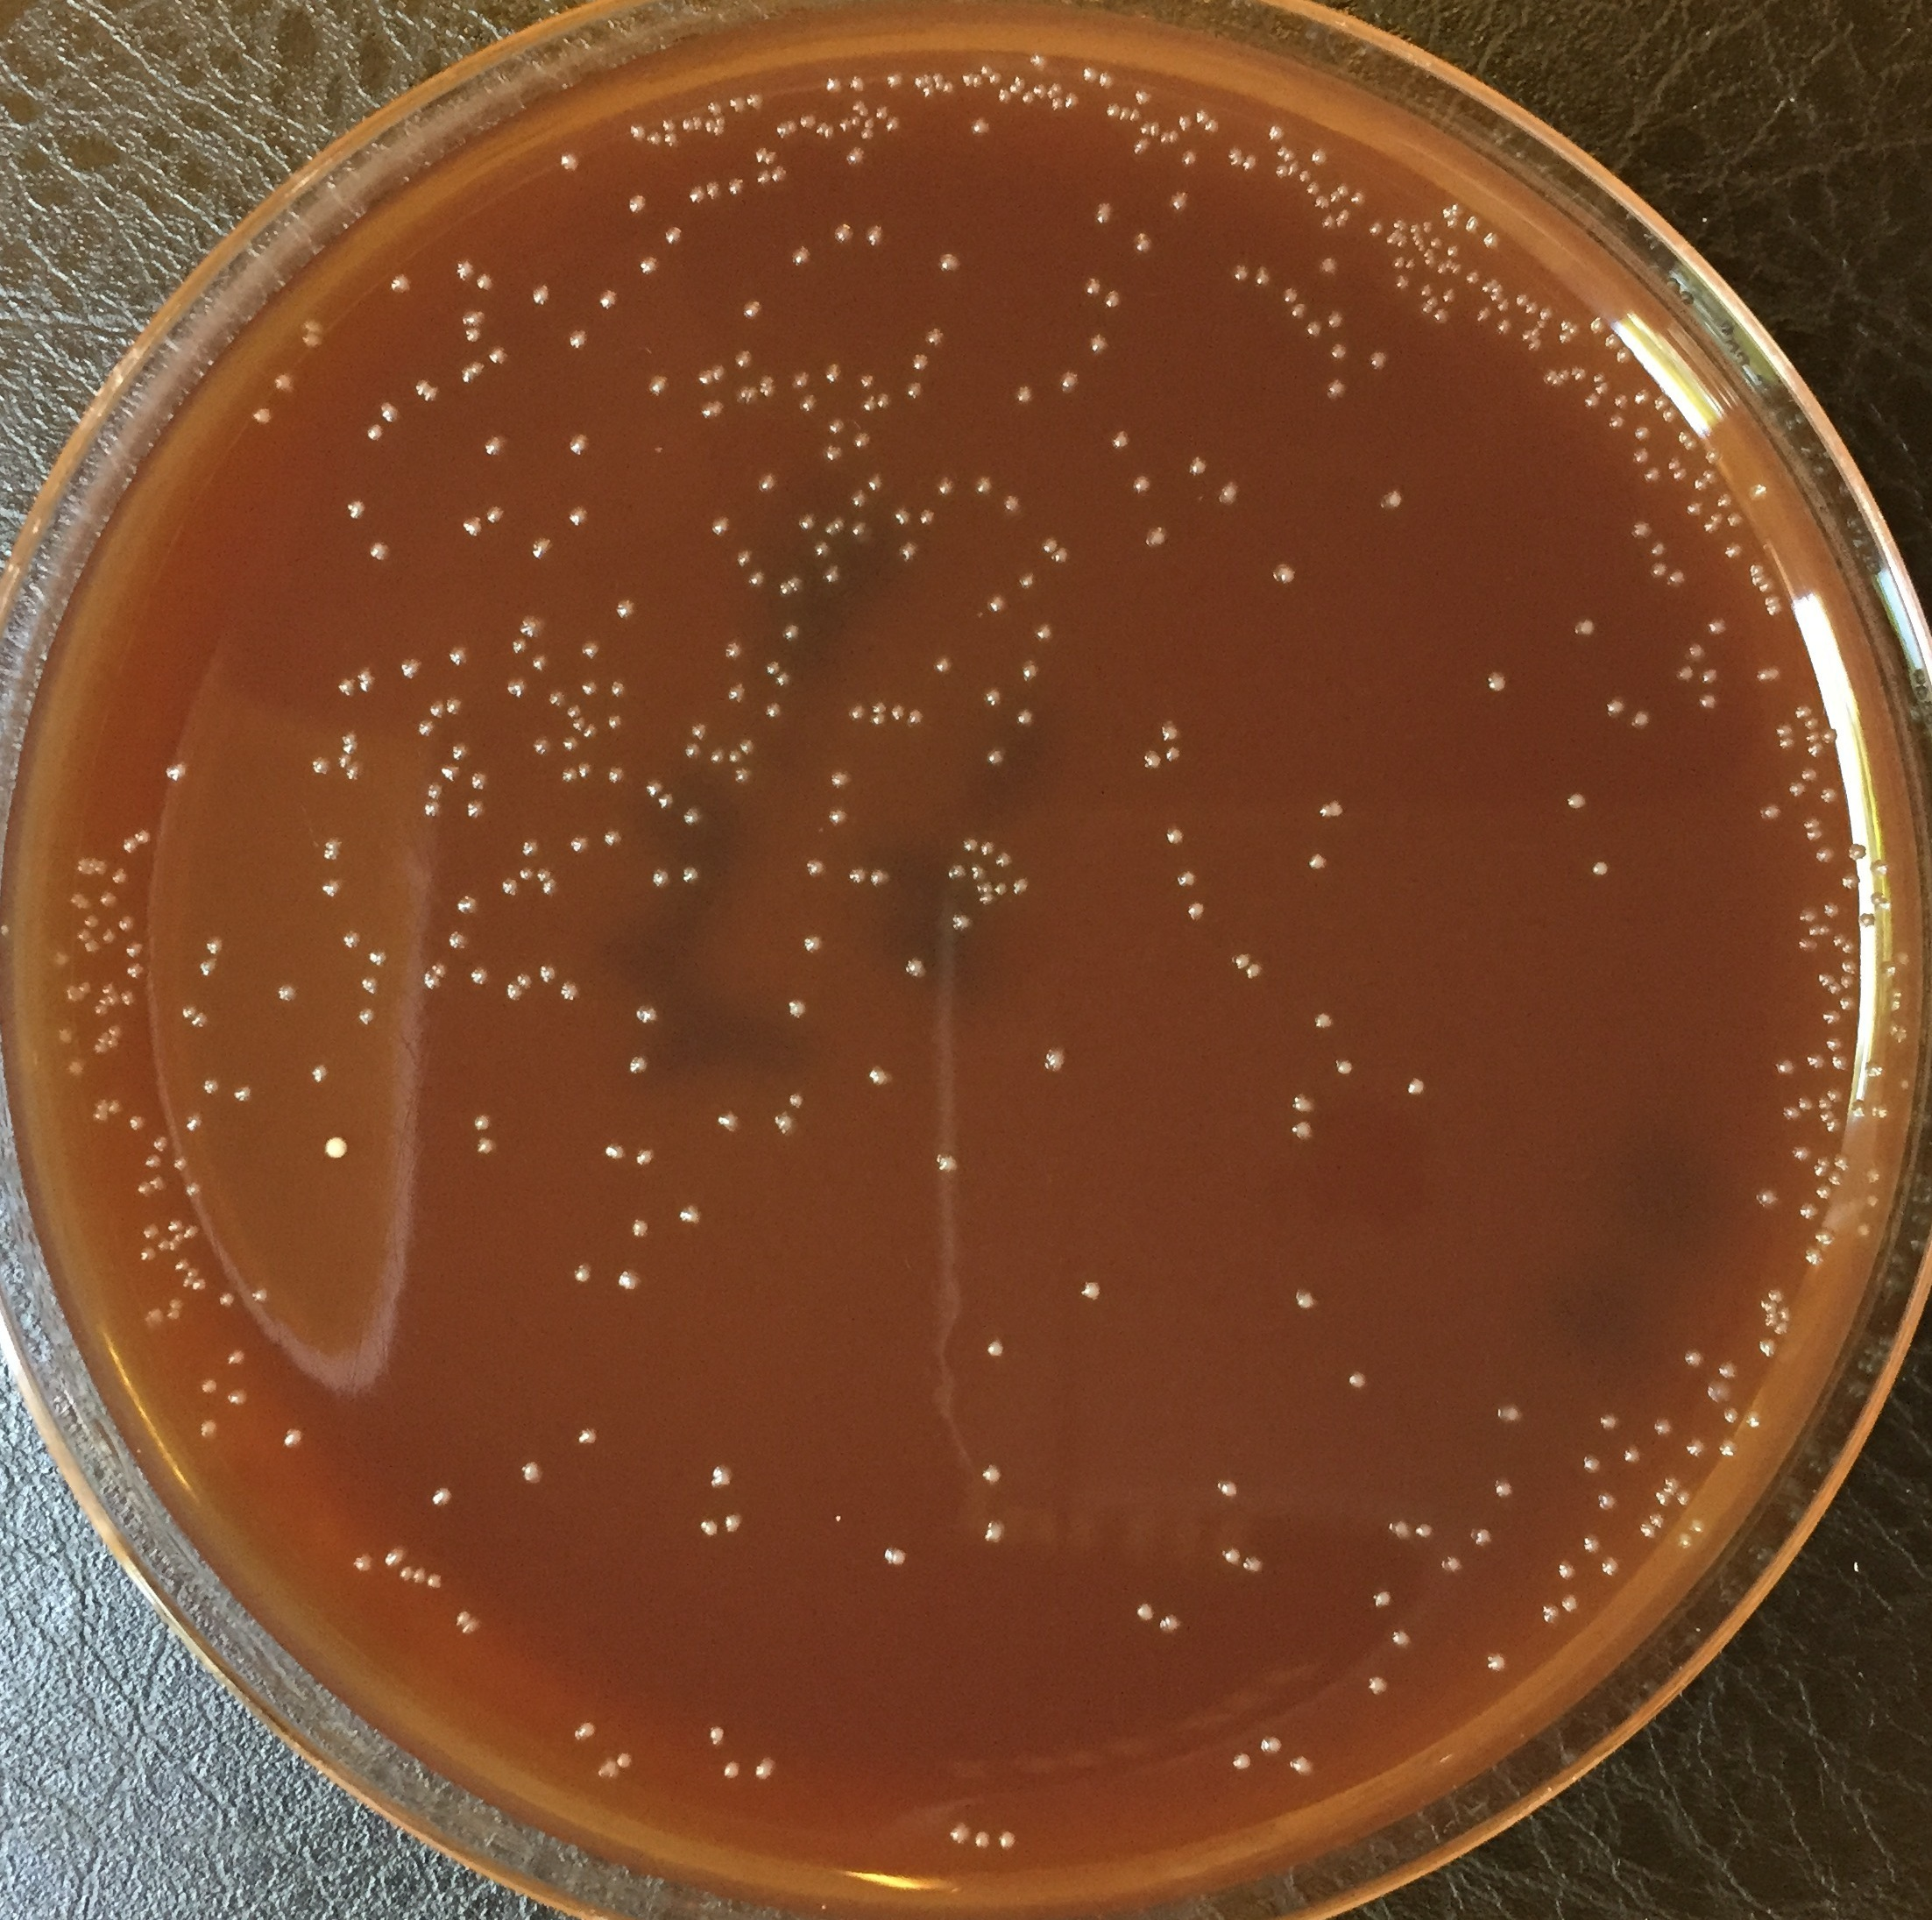sp23: (1883, 1016, 1914, 1053), (1703, 1375, 1739, 1405), (519, 612, 550, 644), (1287, 1751, 1320, 1781), (867, 1062, 898, 1092), (1039, 1044, 1069, 1076), (900, 955, 930, 985), (183, 1113, 214, 1141), (322, 1132, 350, 1164), (160, 756, 188, 788), (633, 1002, 663, 1030), (517, 1459, 547, 1487), (1384, 1517, 1413, 1545), (459, 359, 487, 389), (715, 1106, 744, 1136), (450, 891, 482, 918), (1751, 1183, 1783, 1210), (772, 1106, 798, 1138), (946, 909, 977, 935), (1217, 478, 1243, 510), (649, 865, 677, 893), (1579, 1451, 1607, 1479), (482, 433, 510, 461), (443, 928, 473, 955), (429, 1484, 459, 1510), (1213, 1477, 1243, 1503), (271, 371, 301, 397), (529, 536, 559, 563), (614, 1269, 643, 1296), (705, 1463, 735, 1489), (983, 1516, 1009, 1545), (932, 1148, 962, 1175), (1078, 1278, 1108, 1305), (1290, 1287, 1320, 1313), (505, 673, 531, 703), (350, 1553, 378, 1579), (751, 1755, 779, 1781), (413, 376, 441, 403), (1290, 1118, 1318, 1145), (564, 433, 592, 459), (861, 223, 890, 250), (1127, 230, 1155, 257), (1185, 454, 1213, 480), (1378, 489, 1406, 515), (276, 1426, 306, 1451), (1155, 1611, 1185, 1635), (1494, 1401, 1524, 1426), (932, 250, 962, 274), (1009, 385, 1039, 410), (366, 944, 392, 971), (276, 983, 302, 1009), (626, 1053, 652, 1080), (1484, 1649, 1510, 1676), (1693, 689, 1719, 716), (378, 399, 404, 425), (1013, 705, 1039, 731), (577, 636, 603, 663), (357, 1004, 381, 1032), (466, 964, 494, 988), (601, 763, 629, 788), (592, 1756, 621, 1781), (995, 1829, 1023, 1853), (626, 1217, 654, 1241), (868, 867, 897, 891), (1183, 898, 1208, 927), (846, 485, 870, 513), (1269, 561, 1297, 585), (501, 872, 524, 902), (1255, 1734, 1285, 1756), (1369, 1589, 1399, 1612), (1811, 1225, 1841, 1248), (566, 503, 589, 533), (1141, 527, 1173, 549), (339, 927, 364, 953), (308, 1060, 332, 1087), (464, 798, 490, 823), (554, 979, 580, 1004), (529, 733, 554, 760), (730, 763, 754, 789), (1619, 1440, 1644, 1466), (1572, 615, 1598, 640), (482, 503, 506, 529), (979, 1459, 1004, 1486), (784, 995, 809, 1022), (1157, 719, 1181, 745), (1018, 659, 1044, 684), (830, 767, 856, 791), (708, 515, 735, 540), (904, 380, 930, 404), (1468, 1524, 1496, 1547), (1540, 1602, 1563, 1630), (1740, 1408, 1769, 1431), (1166, 192, 1194, 215), (389, 273, 417, 295), (983, 593, 1011, 615), (1057, 369, 1085, 392), (1626, 710, 1656, 731), (823, 807, 853, 828), (439, 761, 464, 786), (512, 971, 536, 995), (948, 1822, 972, 1846), (1681, 1347, 1705, 1371), (1484, 670, 1508, 695), (1702, 614, 1726, 638), (557, 149, 582, 174), (570, 1259, 594, 1284), (723, 1512, 747, 1537), (1306, 849, 1331, 874), (740, 297, 765, 322), (1086, 331, 1111, 355), (614, 598, 638, 622), (306, 753, 332, 775), (599, 826, 626, 849), (503, 981, 529, 1004), (640, 777, 666, 800), (197, 1417, 223, 1440), (1594, 1489, 1621, 1512), (1132, 1604, 1158, 1626), (1681, 1436, 1707, 1459), (1716, 1436, 1742, 1459), (1802, 1245, 1828, 1268), (1027, 51, 1053, 74), (636, 255, 663, 278), (677, 1203, 703, 1225), (696, 1517, 723, 1540), (800, 932, 823, 958), (1162, 823, 1188, 846), (1173, 867, 1199, 890), (726, 682, 749, 709), (984, 745, 1011, 768), (795, 392, 821, 415), (566, 832, 594, 853), (679, 862, 707, 883), (457, 1616, 485, 1637), (1387, 1628, 1415, 1649), (396, 658, 424, 679), (1818, 1009, 1848, 1029), (1774, 1057, 1797, 1081), (343, 760, 367, 782), (415, 717, 439, 740), (468, 770, 492, 793), (225, 1385, 250, 1408), (381, 1545, 406, 1568), (571, 1720, 596, 1742), (1366, 1674, 1391, 1697), (1554, 1558, 1577, 1582), (1598, 1556, 1623, 1579), (1218, 1545, 1243, 1568), (1797, 1199, 1821, 1222), (1797, 905, 1821, 928), (452, 258, 476, 281), (592, 288, 617, 311), (564, 329, 589, 352), (345, 499, 367, 524), (473, 1134, 498, 1157), (805, 855, 828, 879), (967, 860, 991, 883), (1009, 874, 1034, 897), (821, 561, 844, 585), (645, 375, 670, 397), (1081, 274, 1104, 299), (1108, 429, 1130, 454), (510, 635, 534, 658), (1846, 1097, 1867, 1124), (123, 960, 149, 981), (230, 1085, 257, 1106), (65, 1058, 91, 1080), (686, 719, 712, 740), (1491, 1479, 1517, 1500), (1558, 1593, 1584, 1614), (1839, 870, 1865, 891), (1605, 696, 1626, 723), (1289, 1092, 1315, 1113), (779, 621, 805, 642), (1014, 570, 1041, 591), (1716, 1359, 1744, 1378), (461, 308, 489, 327), (425, 781, 448, 804), (654, 789, 677, 812), (721, 1758, 744, 1781), (1589, 858, 1612, 881), (1846, 840, 1869, 863), (1682, 640, 1705, 663), (1702, 447, 1725, 469), (1747, 482, 1770, 505), (1366, 350, 1389, 373), (823, 74, 846, 97), (844, 146, 867, 169), (1141, 749, 1164, 772), (932, 652, 955, 675), (202, 935, 223, 960), (120, 835, 141, 860), (118, 988, 139, 1013), (450, 738, 471, 763), (538, 960, 559, 985), (707, 1723, 728, 1748), (970, 1830, 995, 1851), (1580, 1535, 1605, 1556), (1756, 1336, 1781, 1357), (1788, 1143, 1812, 1164), (1779, 1102, 1804, 1124), (1756, 802, 1781, 823), (1818, 726, 1842, 747), (1665, 566, 1689, 587), (1318, 257, 1343, 278), (967, 118, 991, 139), (529, 283, 550, 308), (487, 345, 512, 366), (461, 515, 482, 540), (601, 1139, 626, 1160), (631, 1146, 656, 1167), (1403, 1076, 1427, 1097), (1034, 622, 1058, 644), (1329, 798, 1350, 823), (933, 476, 958, 498), (897, 540, 921, 561), (701, 397, 726, 418), (756, 375, 777, 399), (735, 385, 759, 406), (447, 645, 471, 666), (531, 651, 552, 675), (301, 332, 327, 352), (77, 856, 104, 876), (1438, 1553, 1464, 1572), (1238, 1554, 1264, 1574), (1563, 791, 1589, 811), (1753, 665, 1779, 684), (445, 693, 464, 719), (320, 877, 341, 900), (116, 913, 139, 934), (109, 867, 132, 888), (97, 888, 120, 909), (188, 1009, 211, 1030), (541, 872, 563, 895), (603, 712, 626, 733), (680, 737, 701, 760), (225, 1347, 248, 1368), (197, 1377, 220, 1398), (1674, 1487, 1695, 1510), (1649, 1415, 1672, 1436), (1855, 1220, 1878, 1241), (1830, 1053, 1853, 1074), (1821, 898, 1842, 921), (1856, 909, 1879, 930), (1814, 844, 1835, 867), (1250, 267, 1273, 288), (884, 72, 907, 93), (726, 97, 749, 118), (703, 179, 724, 202), (575, 1426, 598, 1447), (993, 847, 1016, 869), (1231, 949, 1252, 972), (1162, 745, 1183, 768), (756, 471, 777, 494), (798, 510, 819, 533), (821, 443, 844, 464), (1000, 494, 1023, 515), (891, 506, 912, 529), (923, 325, 944, 348), (832, 223, 854, 244), (1104, 287, 1125, 309), (545, 687, 568, 709), (178, 1004, 202, 1023), (679, 805, 703, 825), (557, 733, 582, 753), (1229, 1751, 1253, 1771), (1772, 721, 1797, 740), (1672, 663, 1696, 682), (1628, 520, 1652, 540), (1225, 144, 1245, 169), (846, 76, 870, 95), (250, 408, 274, 427), (367, 542, 392, 561), (1050, 547, 1074, 566), (821, 362, 840, 387), (911, 352, 935, 371), (425, 700, 445, 724), (197, 956, 218, 978), (515, 863, 536, 884), (707, 745, 728, 767), (728, 745, 749, 767), (1830, 1150, 1851, 1171), (1795, 1094, 1816, 1115), (1869, 855, 1890, 876), (1589, 316, 1610, 338), (1326, 380, 1347, 401), (1178, 149, 1199, 171), (1093, 202, 1115, 223), (663, 227, 684, 248), (786, 1090, 807, 1111), (983, 1336, 1004, 1357), (763, 700, 784, 721), (905, 709, 926, 730), (747, 568, 768, 589), (863, 471, 884, 492), (849, 431, 870, 452), (791, 367, 812, 389), (336, 675, 357, 696), (1387, 232, 1410, 251), (132, 826, 155, 846), (83, 935, 105, 955), (200, 1074, 220, 1097), (420, 800, 443, 819), (520, 837, 543, 856), (559, 765, 578, 788), (737, 735, 759, 754), (1413, 1521, 1436, 1540), (1347, 1370, 1369, 1389), (1863, 1060, 1886, 1080), (1837, 993, 1860, 1013), (1784, 779, 1807, 798), (1698, 665, 1718, 687), (1723, 512, 1746, 531), (1130, 137, 1153, 156), (796, 111, 819, 130), (475, 273, 498, 292), (893, 1547, 912, 1570), (846, 865, 868, 884), (977, 835, 997, 858), (1313, 1013, 1336, 1032), (721, 642, 744, 661), (847, 702, 867, 724), (981, 687, 1004, 707), (972, 475, 995, 494), (916, 508, 939, 527), (789, 246, 812, 265), (125, 1113, 149, 1131), (1719, 1407, 1744, 1424), (1823, 1036, 1848, 1053), (1791, 705, 1816, 723), (142, 1306, 162, 1327), (98, 927, 118, 948), (575, 760, 594, 781), (582, 723, 601, 744), (141, 1222, 162, 1241), (250, 1287, 271, 1306), (1674, 1531, 1693, 1553), (1819, 788, 1841, 807), (1807, 740, 1828, 760), (1649, 559, 1668, 580), (1684, 498, 1705, 517), (1633, 425, 1654, 445), (1616, 345, 1635, 366), (1603, 331, 1623, 352), (1326, 309, 1347, 329), (1482, 230, 1503, 250), (1348, 190, 1368, 211), (1097, 70, 1118, 90), (884, 116, 904, 137), (770, 165, 791, 185), (724, 178, 745, 197), (628, 195, 647, 216), (366, 422, 385, 443), (471, 1113, 492, 1132), (974, 876, 995, 895), (1334, 1057, 1355, 1076), (735, 547, 754, 568), (847, 520, 867, 542), (1041, 536, 1062, 556), (67, 891, 90, 909), (1805, 1051, 1823, 1074), (54, 1027, 77, 1044), (151, 1132, 169, 1155), (179, 1222, 202, 1240), (1598, 1412, 1621, 1429), (1881, 997, 1904, 1015), (1795, 937, 1818, 955), (1721, 543, 1744, 561), (1714, 492, 1737, 510), (1231, 265, 1253, 283), (946, 863, 969, 881), (779, 120, 795, 144), (422, 971, 441, 990), (360, 976, 380, 995), (172, 1255, 192, 1275), (216, 1291, 236, 1310), (424, 1572, 443, 1591), (454, 1607, 473, 1626), (1862, 1167, 1881, 1187), (1862, 1192, 1881, 1211), (1878, 962, 1897, 981), (1631, 447, 1651, 466), (1644, 466, 1663, 485), (1633, 389, 1652, 408), (1327, 343, 1347, 362), (1297, 167, 1317, 186), (1310, 148, 1329, 167), (1266, 123, 1285, 142), (659, 118, 679, 137), (462, 325, 482, 345), (991, 879, 1011, 898), (731, 348, 751, 367), (167, 1234, 185, 1255), (56, 951, 74, 972), (336, 753, 357, 770), (339, 728, 360, 745), (125, 942, 146, 960), (81, 914, 102, 932), (105, 1097, 127, 1115), (149, 1173, 167, 1194), (411, 1567, 429, 1588), (1637, 1523, 1658, 1540), (1763, 1287, 1784, 1305), (1776, 1303, 1793, 1324), (1770, 1320, 1791, 1338), (1812, 1183, 1834, 1201), (1869, 1102, 1890, 1120), (1607, 413, 1628, 431), (1422, 294, 1443, 311), (1475, 306, 1493, 327), (1318, 215, 1340, 232), (628, 121, 645, 142), (1246, 962, 1267, 979), (888, 702, 905, 723), (856, 373, 877, 390), (1130, 475, 1151, 492), (614, 1753, 636, 1769), (1496, 316, 1512, 339), (744, 93, 766, 109), (65, 983, 83, 1002), (76, 927, 95, 944), (144, 1152, 163, 1169), (134, 1180, 153, 1197), (397, 1565, 417, 1582), (1654, 1491, 1674, 1509), (1688, 1516, 1707, 1533), (1816, 1094, 1835, 1111), (1841, 956, 1858, 976), (1841, 939, 1860, 956), (1804, 826, 1823, 844), (1702, 466, 1719, 485), (1654, 392, 1672, 411), (1304, 322, 1324, 339), (1289, 302, 1308, 320), (1440, 287, 1459, 304), (1431, 308, 1450, 325), (1463, 269, 1482, 287), (1464, 216, 1482, 236), (1280, 287, 1299, 304), (1134, 90, 1153, 107), (1064, 91, 1081, 111), (1032, 83, 1051, 100), (995, 88, 1014, 105), (687, 186, 707, 204), (763, 659, 782, 677), (775, 670, 793, 689), (608, 679, 628, 696), (322, 835, 343, 851), (320, 847, 341, 863), (183, 1182, 204, 1197), (1827, 1171, 1848, 1187), (1823, 1115, 1844, 1131), (1885, 985, 1906, 1000), (1243, 153, 1259, 174), (1570, 366, 1587, 383), (432, 958, 450, 976), (171, 1155, 188, 1173), (139, 1245, 156, 1262), (1647, 1512, 1665, 1530), (1816, 1152, 1834, 1169), (1798, 765, 1816, 782), (1777, 737, 1795, 754), (1747, 561, 1765, 578), (1756, 577, 1774, 594), (1661, 408, 1679, 425), (1273, 164, 1290, 181), (1146, 121, 1164, 139), (1116, 105, 1134, 123), (756, 169, 774, 186), (874, 105, 891, 123), (870, 698, 888, 716), (775, 580, 793, 598), (786, 577, 803, 594), (828, 417, 846, 434), (708, 364, 726, 382), (874, 392, 891, 410), (563, 702, 580, 719), (853, 100, 872, 116), (536, 863, 552, 883), (167, 1218, 186, 1234), (1825, 1087, 1844, 1102), (1649, 542, 1668, 557), (1667, 455, 1682, 475), (1584, 392, 1600, 411), (1391, 274, 1410, 290), (1389, 255, 1405, 274), (1176, 113, 1192, 132), (1202, 120, 1222, 135), (1081, 67, 1100, 83), (962, 833, 977, 853), (812, 542, 832, 557), (696, 367, 712, 387), (357, 677, 376, 693), (578, 679, 598, 695), (881, 1544, 895, 1565), (299, 320, 322, 332), (1556, 331, 1572, 348), (105, 1023, 121, 1041), (169, 1294, 186, 1310), (190, 1278, 207, 1294), (1818, 1106, 1835, 1122), (1837, 972, 1855, 988), (1804, 716, 1821, 731), (1682, 438, 1700, 454), (1612, 394, 1630, 410), (1368, 222, 1385, 237), (1313, 195, 1331, 211), (1304, 181, 1322, 197), (1194, 109, 1211, 125), (1050, 97, 1067, 113), (1021, 91, 1037, 109), (970, 72, 986, 90), (707, 100, 723, 118), (663, 132, 680, 148), (860, 397, 877, 413), (571, 714, 589, 730), (1282, 148, 1296, 167), (1405, 257, 1419, 276), (1825, 981, 1844, 995), (1804, 818, 1823, 832), (761, 151, 781, 165), (645, 132, 665, 146), (1318, 804, 1333, 823), (98, 981, 114, 997), (1417, 281, 1433, 297), (1419, 301, 1434, 316), (1445, 244, 1461, 260), (1104, 102, 1120, 118), (703, 118, 719, 134), (870, 712, 886, 728), (1443, 216, 1461, 230), (341, 742, 359, 756), (1811, 1162, 1828, 1176), (1514, 292, 1528, 309), (1519, 327, 1533, 345), (1529, 336, 1543, 353), (1496, 297, 1510, 315), (960, 72, 974, 90), (858, 128, 875, 142), (849, 114, 863, 132), (979, 891, 997, 905), (826, 121, 837, 144), (939, 81, 958, 93), (691, 114, 703, 134), (1050, 83, 1064, 98), (105, 1036, 120, 1051), (1832, 932, 1846, 948), (1807, 923, 1821, 939), (1709, 512, 1725, 526), (1677, 429, 1693, 443), (1693, 476, 1709, 491), (1591, 371, 1607, 385), (1524, 301, 1538, 316), (1420, 220, 1434, 236), (1137, 121, 1151, 137), (1129, 107, 1143, 123), (979, 63, 995, 77), (837, 118, 851, 134), (863, 116, 877, 132), (680, 118, 694, 134), (353, 665, 369, 679), (1336, 211, 1348, 229), (1543, 366, 1556, 383), (1763, 594, 1781, 607), (754, 146, 766, 164), (1487, 290, 1507, 301), (97, 997, 116, 1007), (816, 120, 824, 142), (1447, 260, 1461, 274), (156, 1238, 171, 1252), (1594, 382, 1609, 396), (1429, 237, 1443, 251), (1336, 185, 1350, 199), (1167, 128, 1181, 142), (1452, 202, 1464, 218), (1391, 218, 1406, 230), (935, 70, 944, 91), (1540, 304, 1551, 322), (1009, 83, 1023, 95), (192, 1264, 206, 1276), (181, 1276, 193, 1291), (1480, 278, 1493, 292), (93, 1044, 107, 1057), (93, 1111, 107, 1124), (93, 1004, 107, 1016), (988, 74, 1002, 86), (712, 125, 726, 137), (1014, 74, 1025, 90), (1275, 142, 1285, 158), (1440, 204, 1450, 220), (1561, 366, 1572, 382), (1552, 375, 1563, 390), (81, 978, 91, 993), (1674, 468, 1686, 480), (1329, 192, 1341, 204), (1570, 322, 1580, 336), (1559, 318, 1570, 332), (95, 1097, 105, 1111), (1436, 262, 1445, 278), (1408, 222, 1419, 234), (923, 91, 939, 98), (923, 69, 930, 84), (916, 72, 923, 88), (1413, 239, 1424, 250), (1538, 318, 1549, 329), (169, 1315, 181, 1324), (1410, 232, 1422, 241), (1493, 283, 1505, 292), (1531, 325, 1540, 338), (1424, 258, 1434, 267), (98, 1034, 107, 1044), (1422, 251, 1433, 258)
